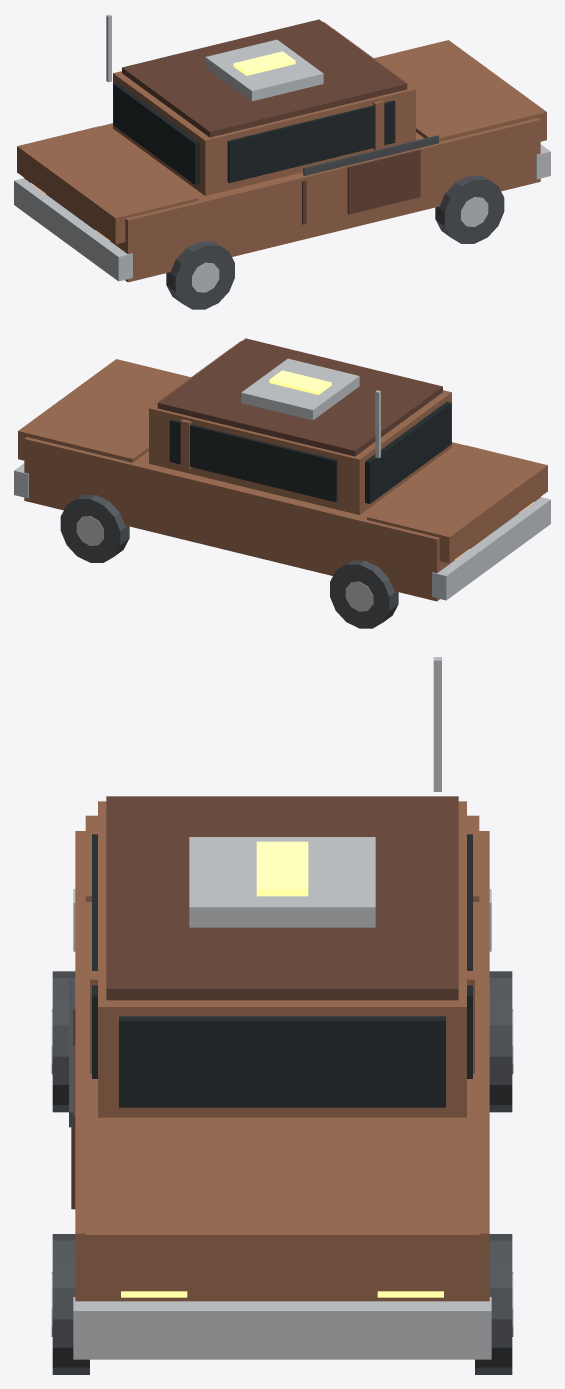
File: PatrolCar.fbx
3 views of the same model, one above another, from view 1: azimuth 30°, elevation 25°; view 2: azimuth 150°, elevation 25°; view 3: azimuth 270°, elevation 25° (orthographic). The views are drawn at different scales.
Parts seen in each view (by area): view 1: PatrolCar; view 2: PatrolCar; view 3: PatrolCar.
Part boxes in pixels (bbox=[...]): PatrolCar: bbox=[14, 14, 550, 309]; PatrolCar: bbox=[14, 338, 550, 628]; PatrolCar: bbox=[51, 657, 513, 1374].
Bounding box in the file's own units: 4.82 × 2.38 × 2.23.
